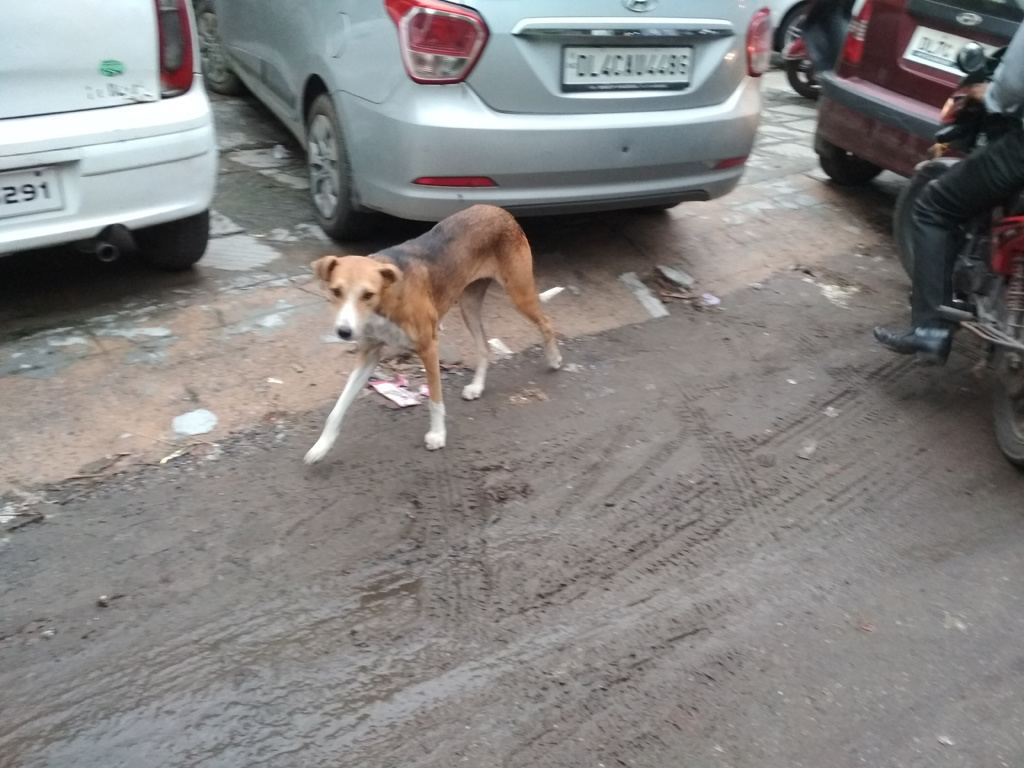dog: (304, 204, 561, 464)
